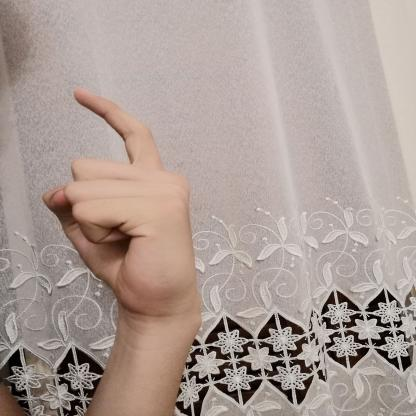RAA: (32, 81, 210, 321)
